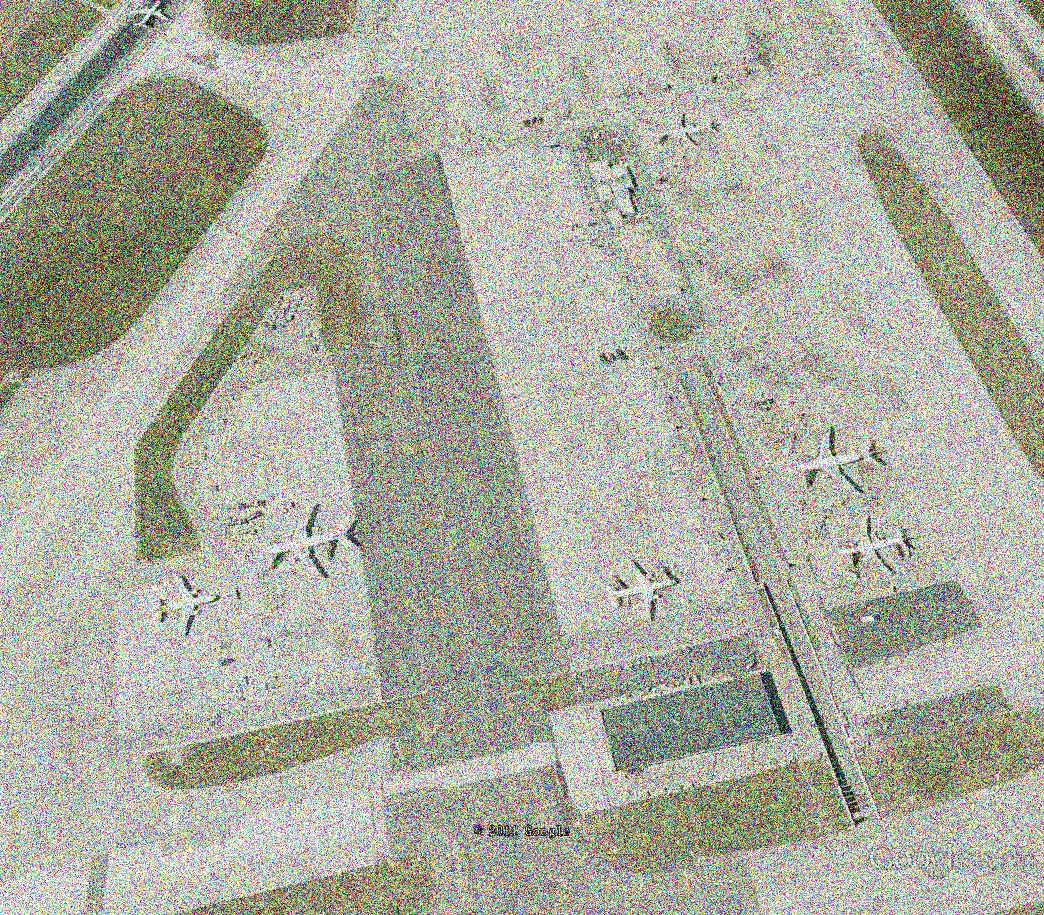aircraft: (261, 500, 364, 587), (785, 422, 888, 498), (605, 556, 684, 627), (146, 573, 225, 643), (837, 513, 917, 582), (649, 111, 723, 153), (128, 2, 177, 33)
